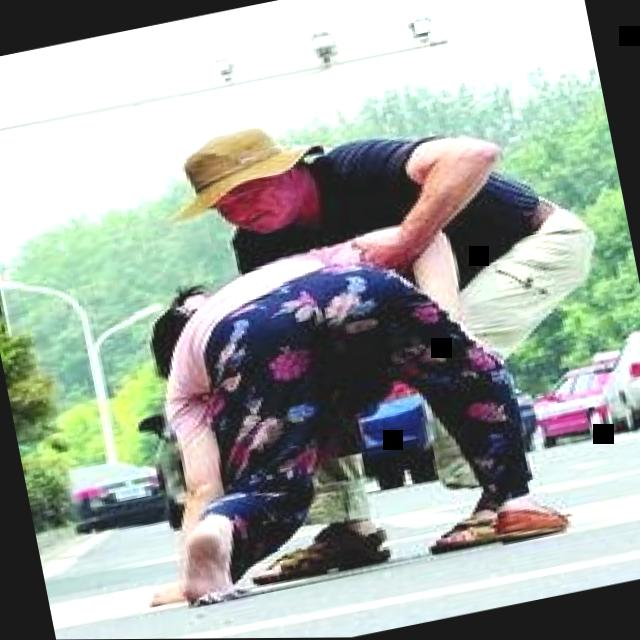Fall-Detected: (60, 197, 574, 625)
